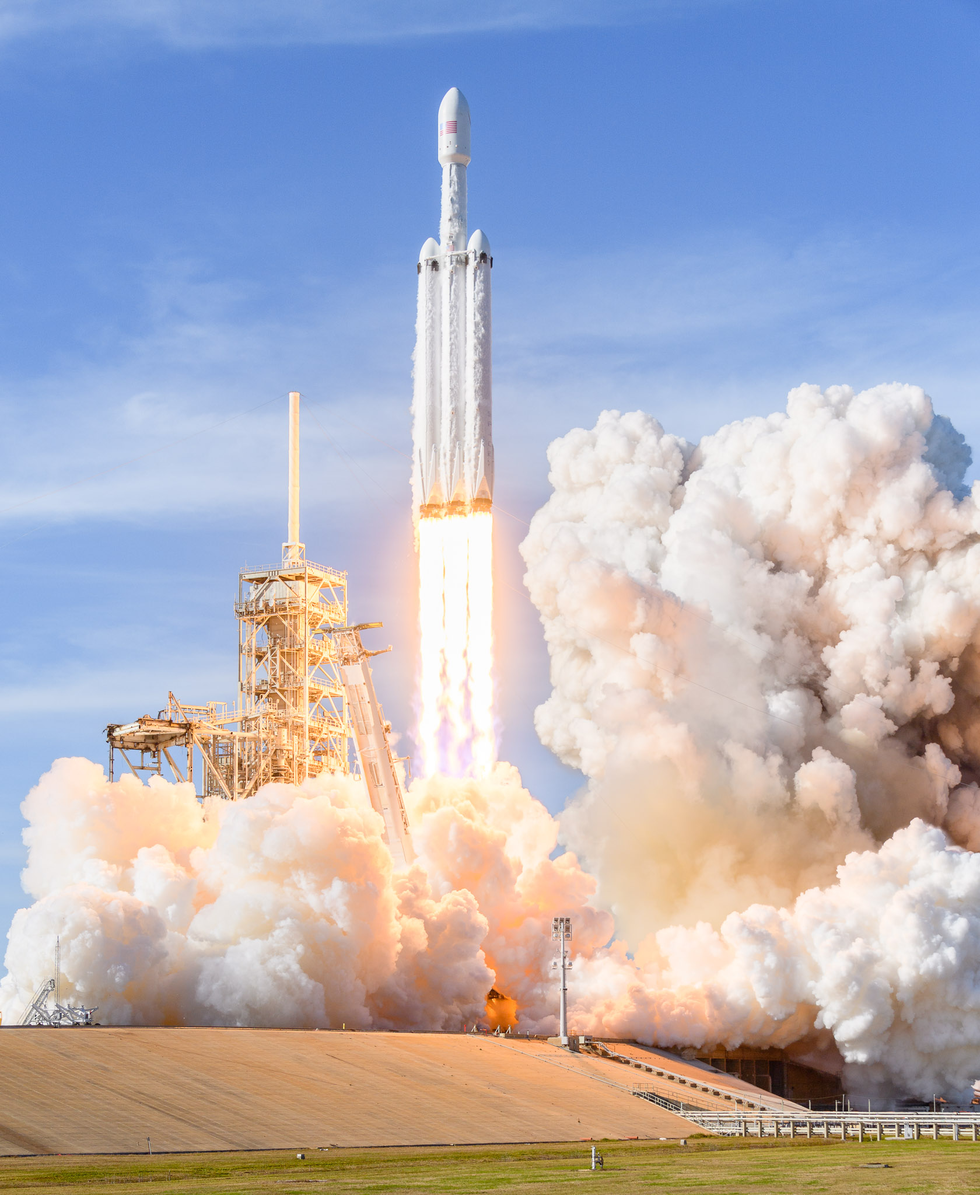falcon: (371, 65, 510, 554)
